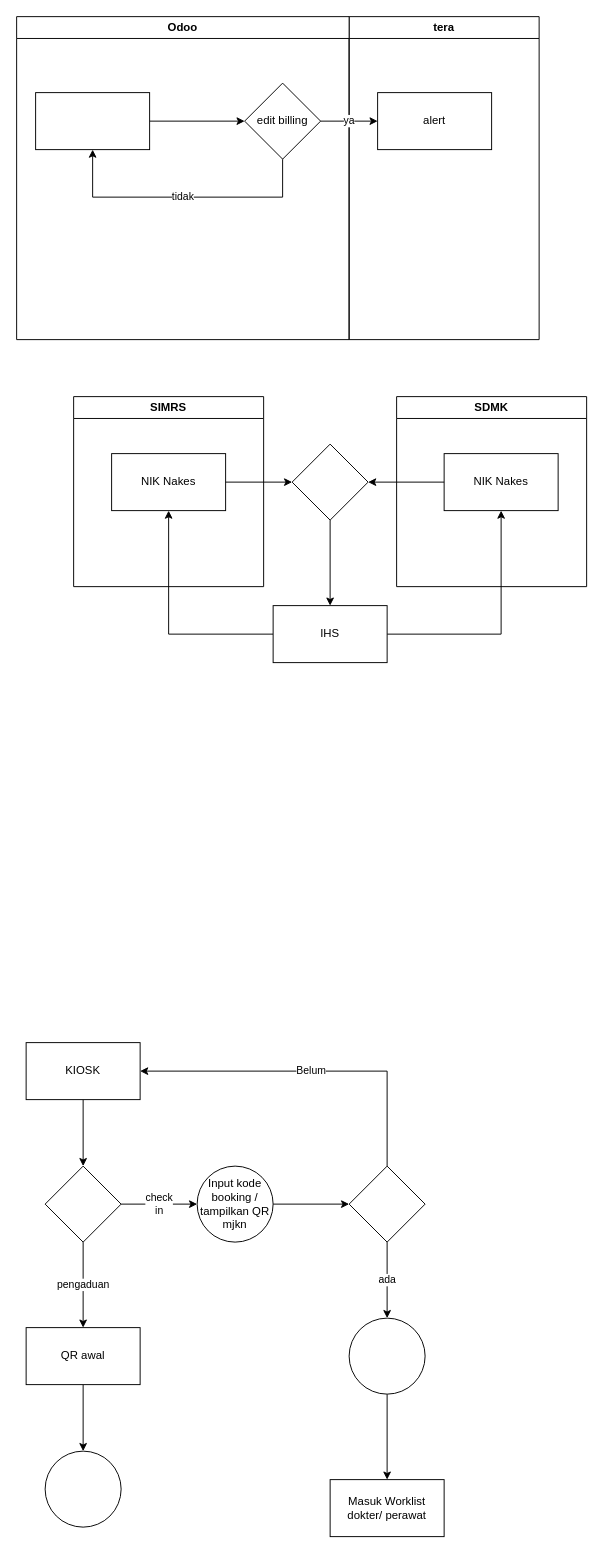
The diagram is 603 pixels wide and 1553 high, and some of its shapes have lost their labels. Here are the shapes that lost their labels. From the top down, the centre of each, then its label:
(x=92, y=121): billing
(x=329, y=481): SAMA ?
(x=82, y=1203): Chekin / pengaduan
(x=386, y=1203): sudah ada SKDP ?
(x=386, y=1355): Proses Regis
(x=82, y=1488): Scan QR
